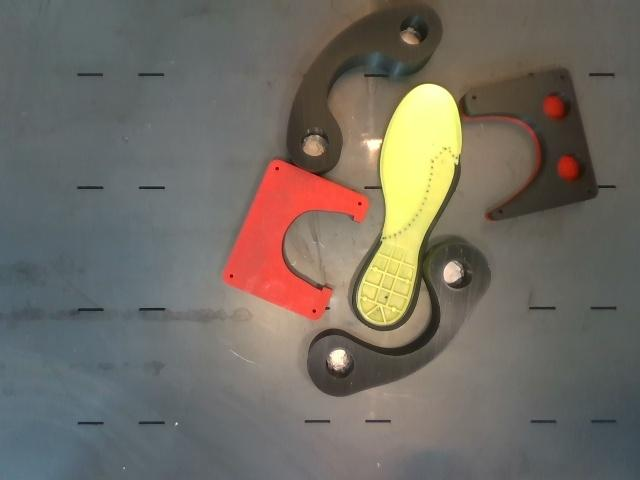shoes: (356, 84, 461, 328)
